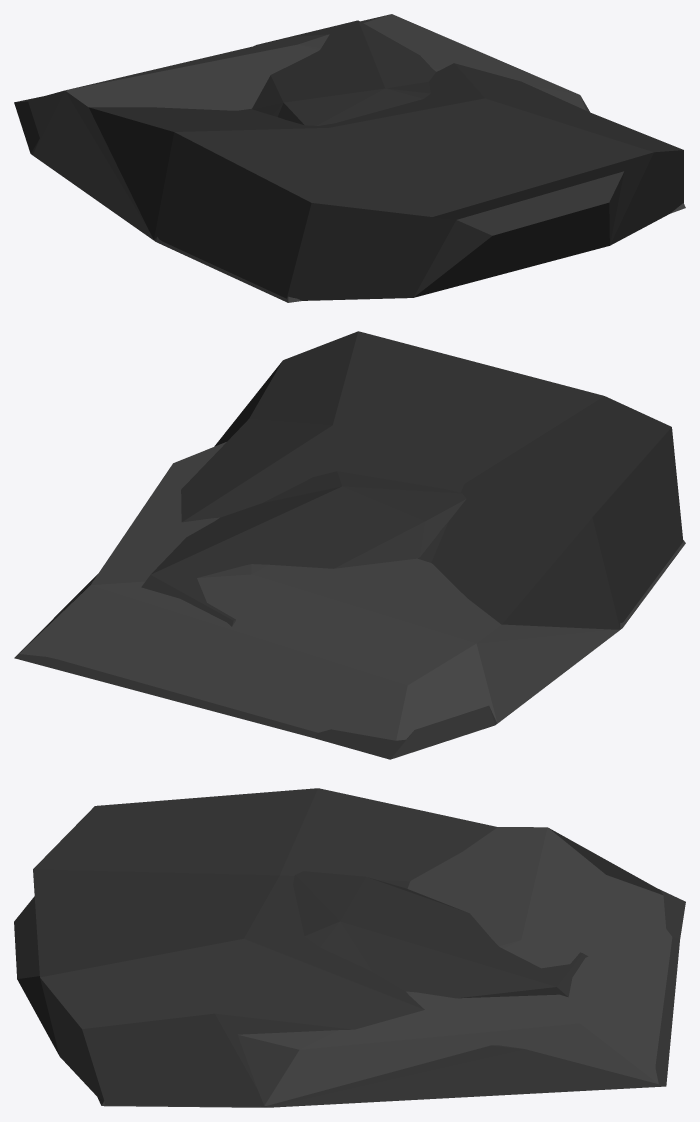
The model's file is Forest_Plato.fbx.
3 views of the same model, one above another, from view 1: azimuth 30°, elevation 25°; view 2: azimuth 150°, elevation 25°; view 3: azimuth 270°, elevation 25° (orthographic). The views are drawn at different scales.
Parts seen in each view (by area): view 1: Plato_006, Plato_001, Plato_008, Plato_007, Plato_003; view 2: Plato_006, Plato_003, Plato_001, Plato_008, Plato_007; view 3: Plato_006, Plato_001, Plato_003, Plato_008, Plato_007.
Part boxes in pixels (<box>): Plato_006: <box>31,68,683,300</box>; Plato_001: <box>14,63,683,281</box>; Plato_008: <box>33,14,685,302</box>; Plato_007: <box>252,20,435,125</box>; Plato_003: <box>25,14,501,302</box>; Plato_006: <box>14,331,682,758</box>; Plato_003: <box>19,443,685,740</box>; Plato_001: <box>26,331,683,759</box>; Plato_008: <box>69,442,683,740</box>; Plato_007: <box>141,471,466,626</box>; Plato_006: <box>14,788,665,1107</box>; Plato_001: <box>33,788,685,1107</box>; Plato_003: <box>102,827,672,1107</box>; Plato_008: <box>97,827,672,1107</box>; Plato_007: <box>293,871,588,998</box>.
Size of the model in its own units: 2.08 by 0.4551 by 2.6.
